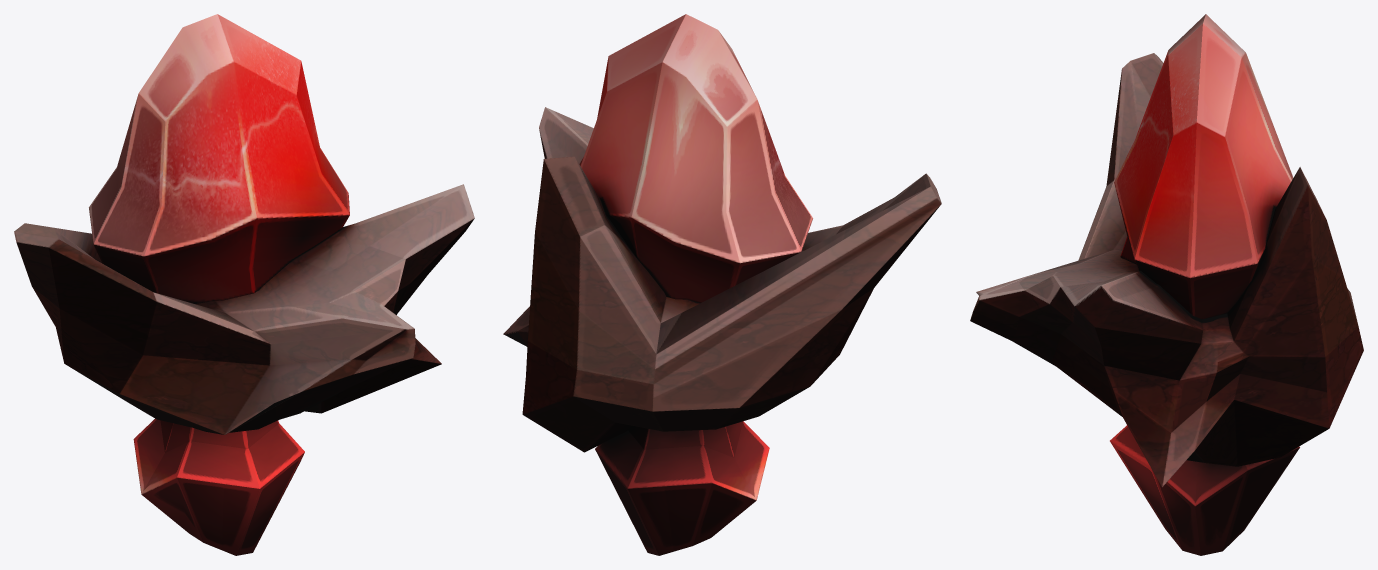
File: Crystal_57.fbx
3 views of the same model, side by side, from view 1: azimuth 30°, elevation 25°; view 2: azimuth 150°, elevation 25°; view 3: azimuth 270°, elevation 25° (orthographic). The views are drawn at different scales.
Visible parts, largest first — view 1: Crystal_57; view 2: Crystal_57; view 3: Crystal_57.
Boxes of the visible parts, box(x1,y1,x2,y2) form: Crystal_57: box(14, 14, 474, 555); Crystal_57: box(503, 14, 941, 555); Crystal_57: box(970, 14, 1363, 555).
Size of the model in its own units: 72.02 by 85.98 by 59.32.
